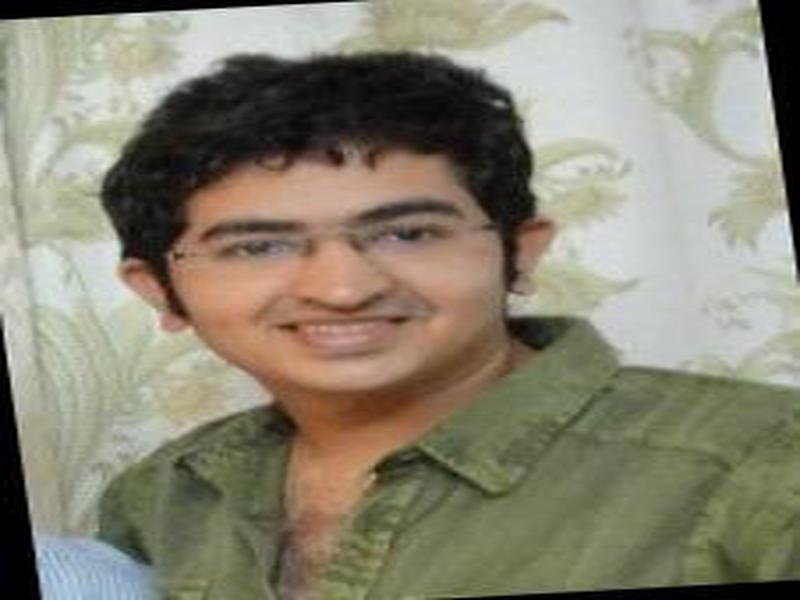without_mask: (161, 163, 499, 393)
